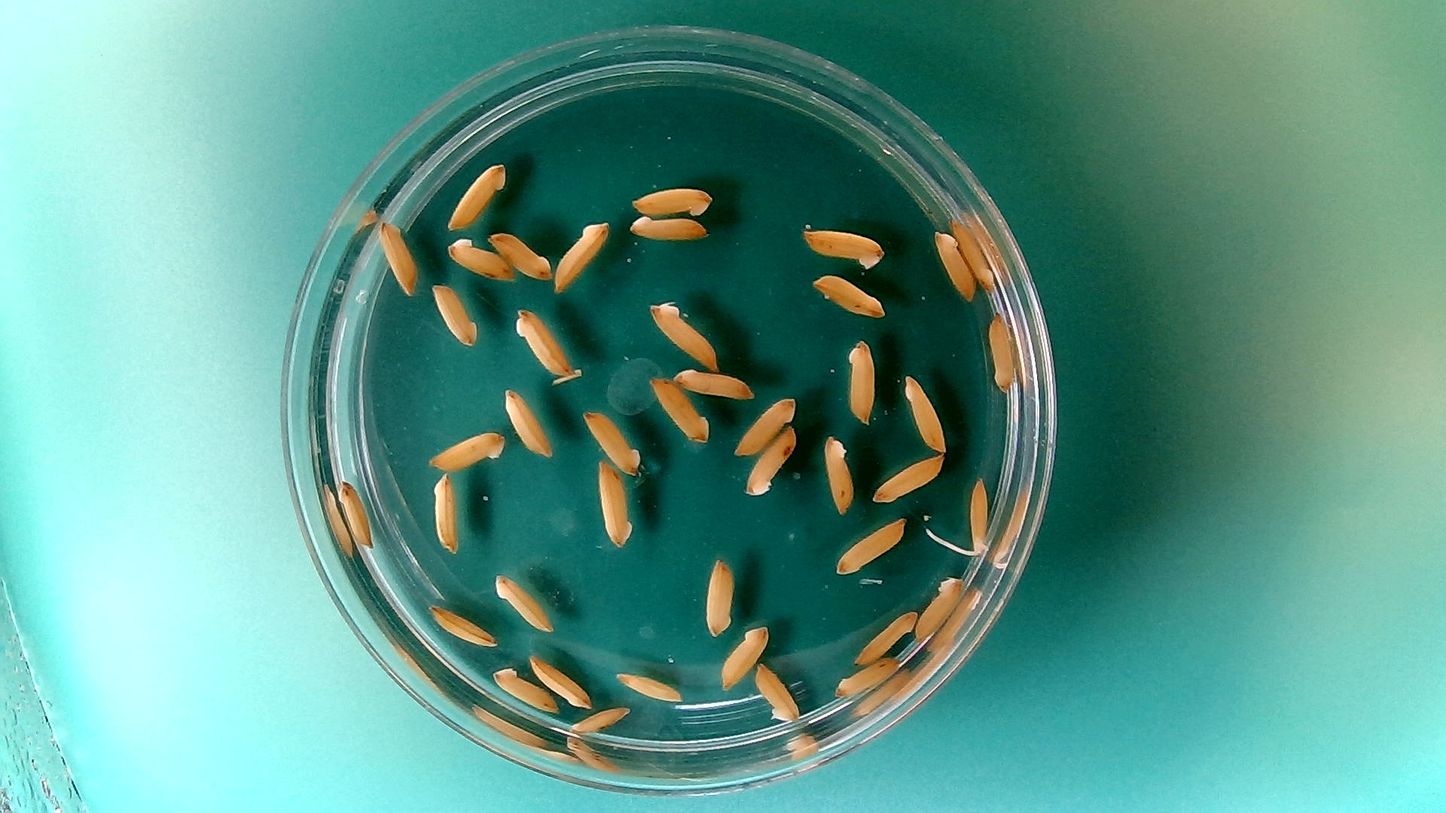no: (645, 295, 722, 371), (893, 370, 953, 457), (795, 221, 889, 271), (646, 373, 712, 443), (445, 159, 508, 232), (552, 218, 611, 294), (511, 305, 574, 376), (580, 406, 643, 477), (868, 450, 947, 506), (832, 516, 908, 574), (731, 393, 799, 455), (850, 605, 919, 666), (743, 423, 798, 499), (526, 650, 594, 709), (501, 384, 554, 459), (491, 571, 554, 634), (911, 571, 966, 643), (425, 427, 508, 473), (717, 620, 770, 691), (594, 456, 634, 550), (377, 216, 420, 299), (490, 664, 561, 714), (948, 216, 994, 293), (429, 280, 480, 349), (488, 229, 554, 282), (811, 272, 887, 318), (444, 234, 515, 282), (627, 181, 715, 219), (427, 601, 498, 648), (931, 228, 975, 303), (752, 659, 801, 726), (832, 653, 902, 699), (671, 364, 756, 400), (700, 553, 736, 638), (337, 477, 377, 553), (843, 336, 877, 425), (821, 431, 856, 515), (429, 468, 462, 557), (986, 308, 1017, 392), (613, 668, 685, 704), (626, 212, 711, 242), (566, 703, 633, 735)
yes: (964, 474, 992, 556)
